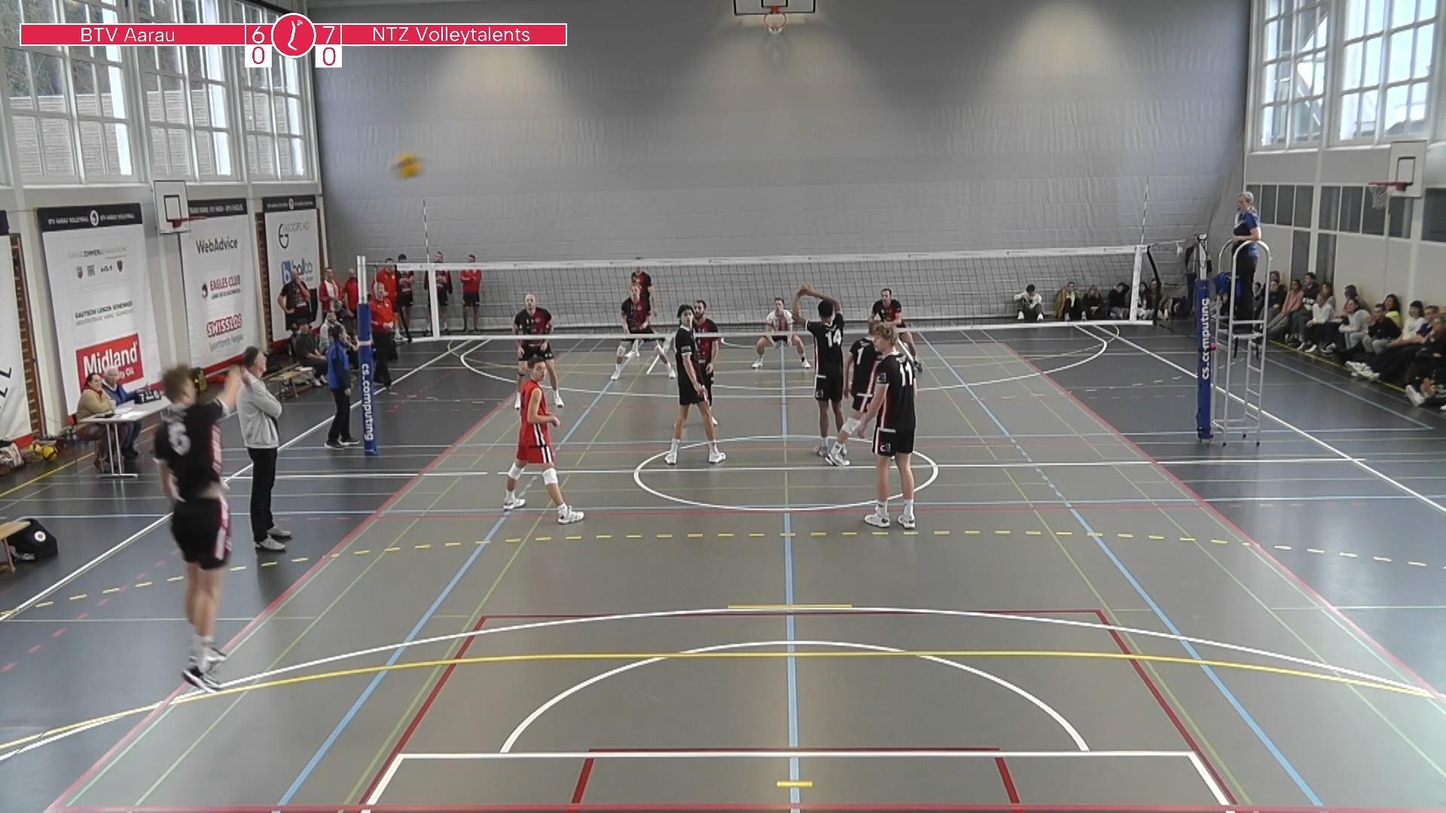Player: (502, 358, 584, 524), (864, 323, 915, 528), (664, 304, 725, 464), (792, 285, 844, 457), (827, 325, 878, 465), (611, 282, 676, 380), (752, 297, 810, 368), (870, 289, 918, 362), (514, 338, 563, 409), (693, 300, 721, 408), (630, 267, 653, 313)
Serve: (139, 359, 250, 694)
ball: (388, 148, 426, 183)
